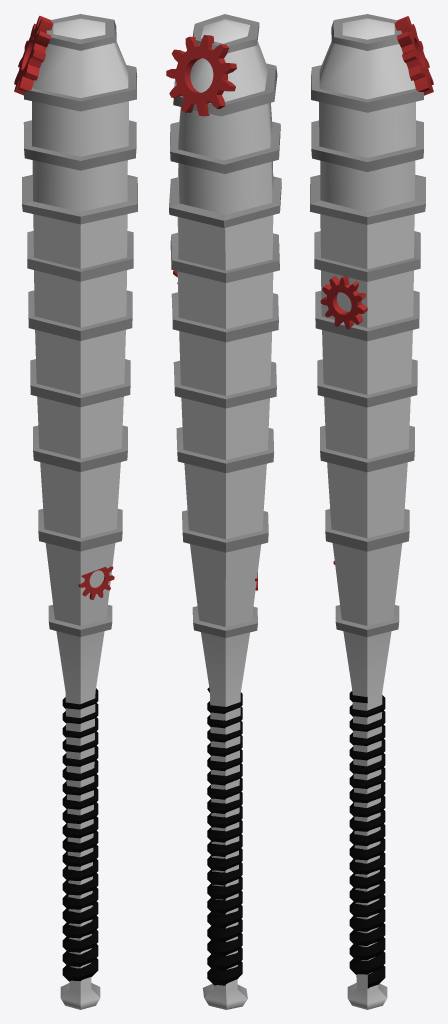
The model's file is Bat_Long.fbx.
3 renders of one model, left to right at view 1: azimuth 90°, elevation 25°; view 2: azimuth 150°, elevation 25°; view 3: azimuth 270°, elevation 25°, orthographic.
Visible parts, largest first — view 1: pCylinder1, pHelix1, pGear1, pGear3; view 2: pCylinder1, pHelix1, pGear1; view 3: pCylinder1, pHelix1, pGear1, pGear4.
Boxes of the visible parts, <box> form: pCylinder1: <box>22,14,137,1009</box>; pHelix1: <box>62,688,98,981</box>; pGear1: <box>14,16,53,95</box>; pGear3: <box>78,566,114,599</box>; pCylinder1: <box>169,14,281,1009</box>; pHelix1: <box>207,687,242,985</box>; pGear1: <box>166,35,236,116</box>; pCylinder1: <box>310,14,425,1009</box>; pHelix1: <box>349,691,385,988</box>; pGear1: <box>394,16,433,95</box>; pGear4: <box>320,276,367,329</box>.
Size of the model in its own units: 10.76 by 91.74 by 10.47.
